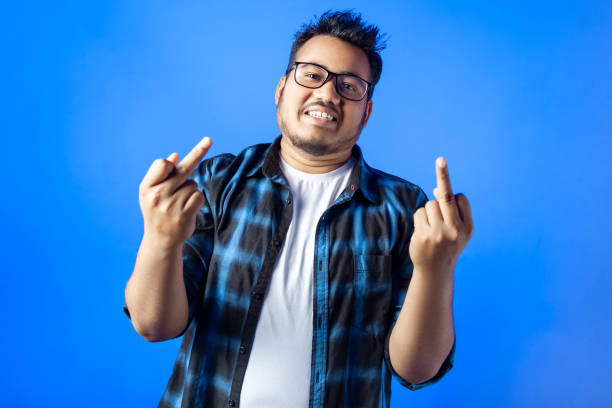insulting_gesture: (406, 157, 475, 272), (137, 136, 213, 240)
